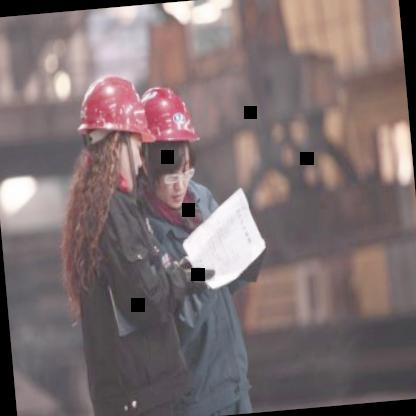helmet: (71, 68, 154, 200), (128, 78, 207, 210)
